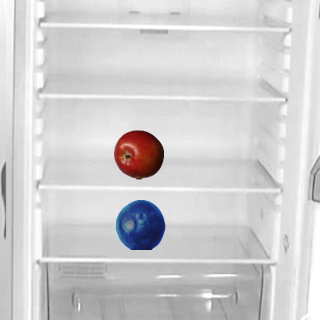Apple Braeburn: (113, 129, 163, 179)
Huckleberry: (115, 199, 165, 249)
